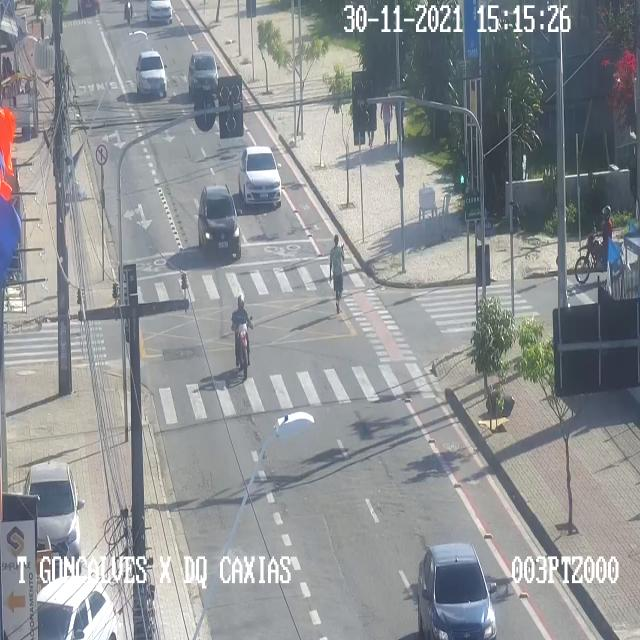Car: (418, 542, 496, 639), (24, 463, 80, 573), (36, 575, 116, 639), (198, 185, 240, 257), (238, 146, 281, 206), (188, 51, 218, 97), (136, 51, 166, 96), (76, 0, 104, 19), (150, 4, 172, 24)
Motorcycle: (574, 205, 622, 282), (231, 294, 253, 378)
